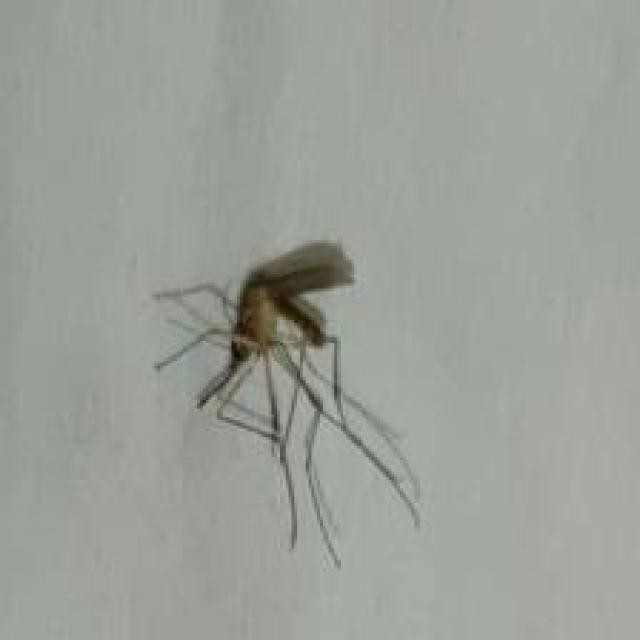Culex: (151, 237, 423, 569)
